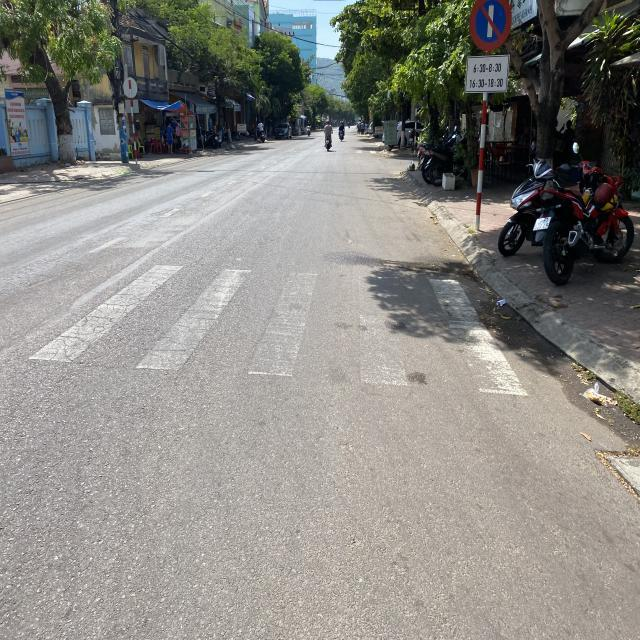walk-crossing: (0, 263, 529, 400)
